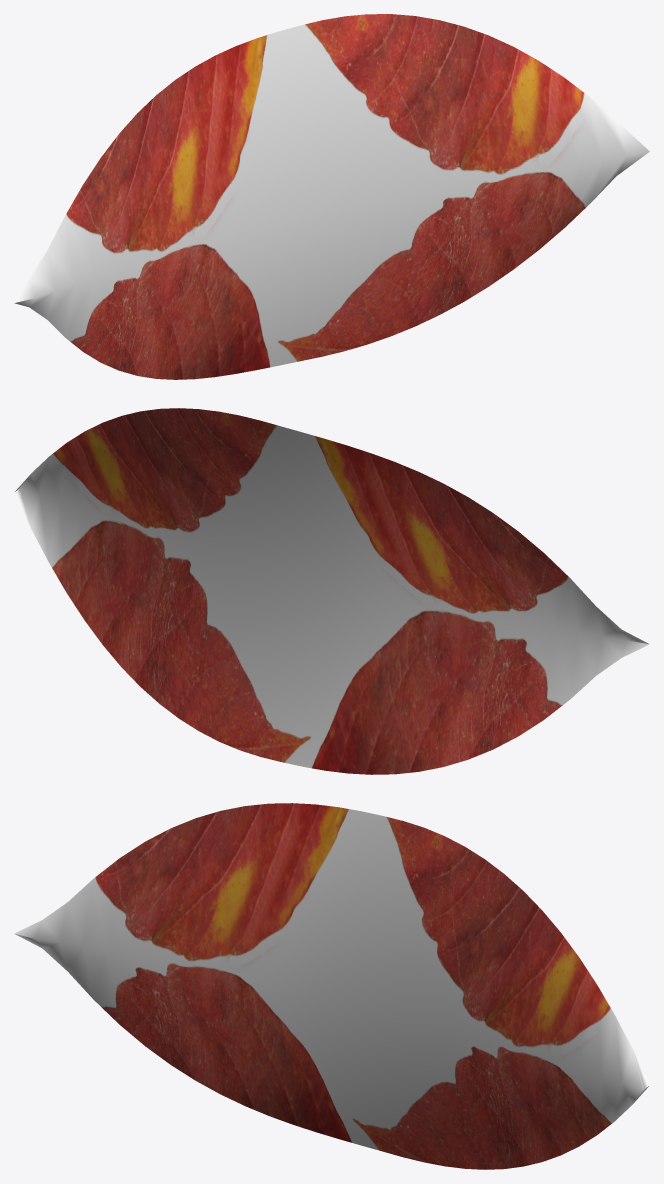
Rendered from lisc-jesienny.fbx.
The picture shows the model from 3 angles, top to bottom: view 1: azimuth 30°, elevation 25°; view 2: azimuth 150°, elevation 25°; view 3: azimuth 330°, elevation 25°; orthographic projection.
Visible parts, largest first — view 1: Leaf_Generator; view 2: Leaf_Generator; view 3: Leaf_Generator.
Part boxes in pixels (<box>): Leaf_Generator: <box>14,14,649,379</box>; Leaf_Generator: <box>14,408,649,774</box>; Leaf_Generator: <box>14,803,649,1169</box>.
Bounding box in the file's own units: 190 × 96.67 × 23.28.
Materials: 1 (1 with a texture image).
